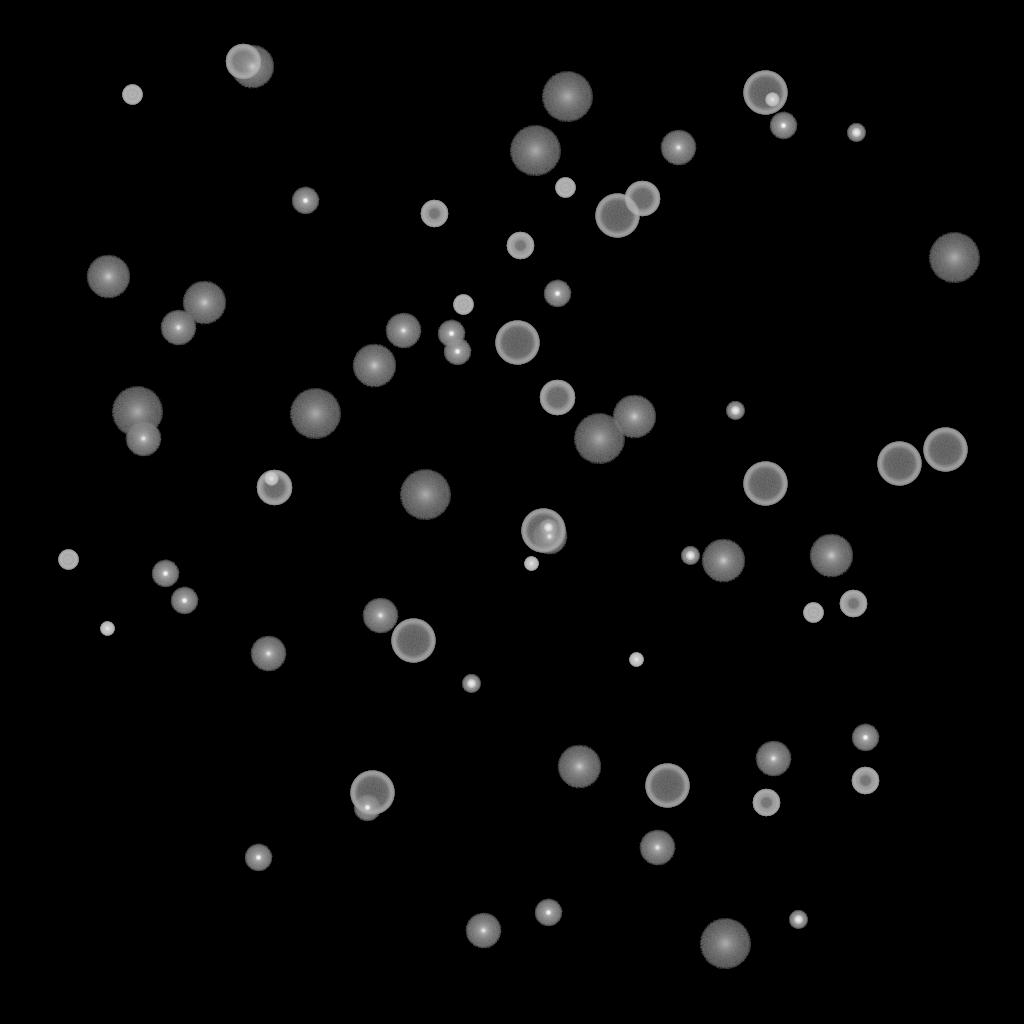depth:-10: (151, 560, 179, 588), (534, 899, 562, 927), (353, 794, 381, 822), (437, 320, 465, 348), (769, 112, 797, 140), (291, 187, 319, 215), (244, 844, 272, 872), (443, 338, 471, 366), (170, 587, 198, 615), (851, 724, 879, 752), (543, 280, 571, 308)
depth:-20: (462, 675, 480, 693), (847, 124, 865, 142), (539, 519, 557, 537), (789, 911, 807, 929), (726, 402, 744, 420), (681, 547, 699, 565)
depth:-30: (264, 472, 278, 486), (524, 557, 538, 571), (100, 622, 114, 636), (629, 653, 643, 667), (765, 93, 779, 107)
depth:-40: (122, 85, 142, 105), (58, 550, 78, 570), (803, 603, 823, 623), (555, 178, 575, 198), (453, 295, 473, 315)
depth:-50: (506, 232, 534, 260), (851, 767, 879, 795), (839, 590, 867, 618), (752, 789, 780, 817), (420, 200, 448, 228)
depth:-60: (539, 380, 575, 416), (256, 470, 292, 506), (624, 181, 660, 217), (225, 44, 261, 80)
depth:-70: (923, 428, 967, 472), (877, 442, 921, 486), (521, 509, 565, 553), (495, 321, 539, 365), (743, 462, 787, 506), (350, 771, 394, 815), (391, 619, 435, 663), (645, 764, 689, 808), (595, 194, 639, 238), (743, 71, 787, 115)
depth:0: (250, 636, 286, 672), (531, 519, 567, 555), (465, 913, 501, 949), (639, 830, 675, 866), (385, 313, 421, 349), (362, 598, 398, 634), (160, 310, 196, 346), (660, 130, 696, 166), (125, 421, 161, 457), (755, 741, 791, 777)
depth:10: (557, 745, 601, 789), (86, 255, 130, 299), (182, 281, 226, 325), (701, 539, 745, 583), (230, 45, 274, 89), (352, 344, 396, 388), (612, 395, 656, 439), (809, 534, 853, 578)
depth:20: (541, 72, 593, 122), (289, 389, 341, 439), (509, 126, 561, 176), (928, 233, 980, 283), (699, 919, 751, 969), (111, 387, 163, 437), (399, 470, 451, 520), (573, 414, 625, 464)
